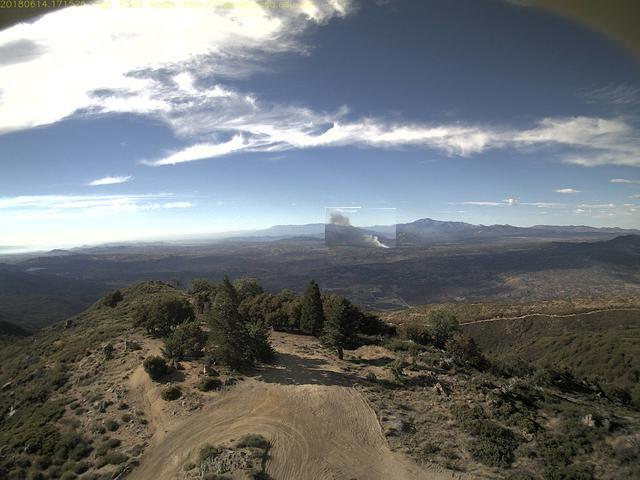smoke: (326, 209, 398, 250)
